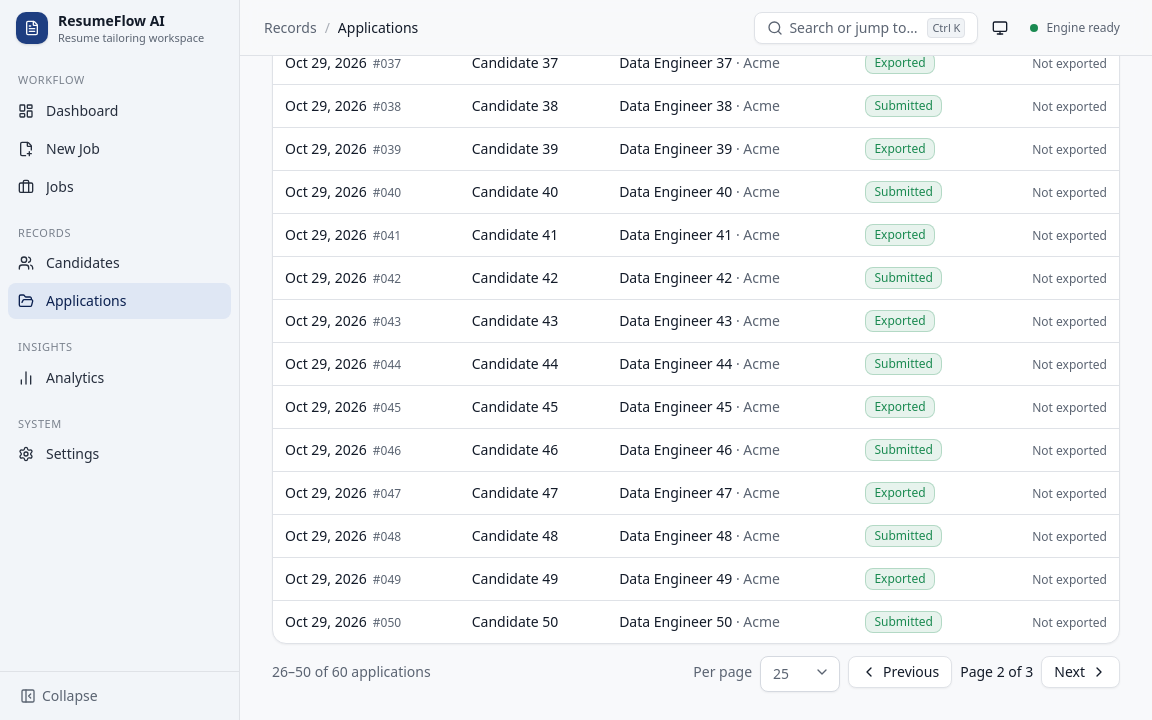
application list pages › changes the page size and starts again from page 1
(page scrolled)
Expected: the text "26–50 of 60 applications" is shown, [272,662,431,682]
Select "50" in the dropdown named "Rows per page" at [800, 674], box [760,656,840,692]
(page scrolled)
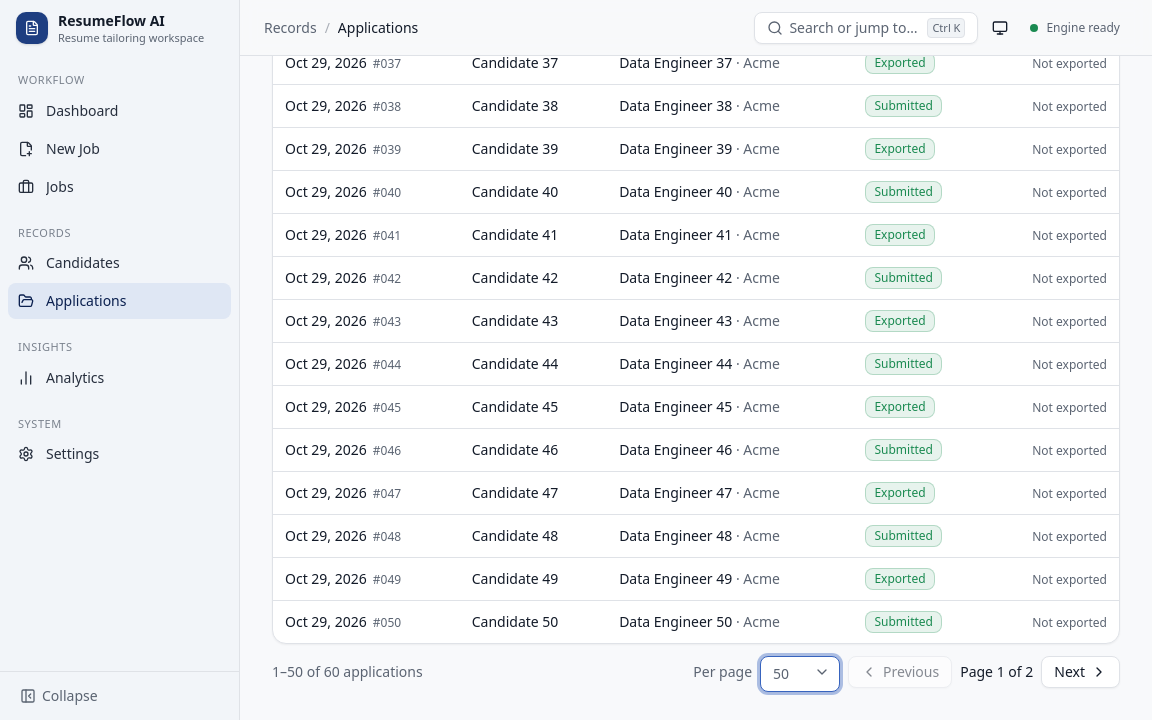
Expected: the text "1–50 of 60 applications" is shown, [272,662,423,682]
